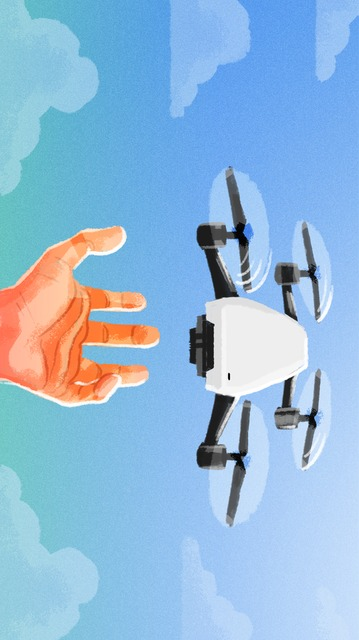drone: (189, 168, 333, 527)
